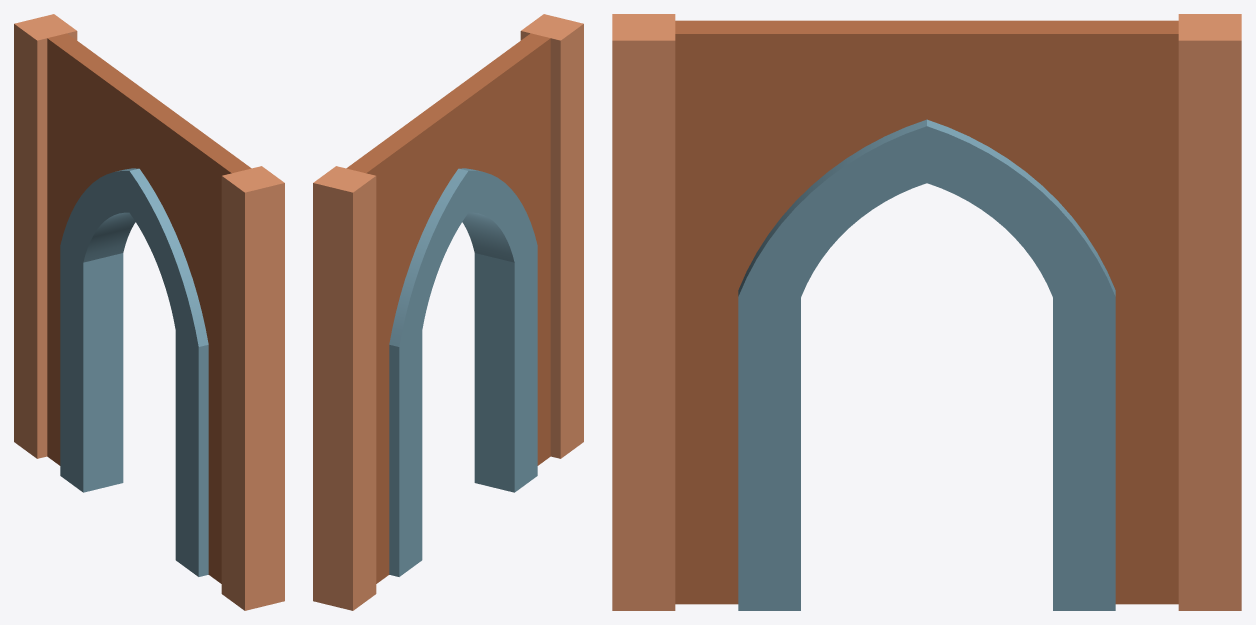
Rendered from wallWoodDoorwayRound.obj.
3 renders of one model, left to right at view 1: azimuth 30°, elevation 25°; view 2: azimuth 150°, elevation 25°; view 3: azimuth 270°, elevation 25°, orthographic. The views are drawn at different scales.
Parts seen in each view (by area): view 1: wallWoodDoorwayRound; view 2: wallWoodDoorwayRound; view 3: wallWoodDoorwayRound.
Boxes of the visible parts, x1,y1,x2,y2 form: wallWoodDoorwayRound: (14,14,284,610); wallWoodDoorwayRound: (313,14,583,610); wallWoodDoorwayRound: (612,14,1241,610).
Size of the model in its own units: 0.1 by 1 by 1.
